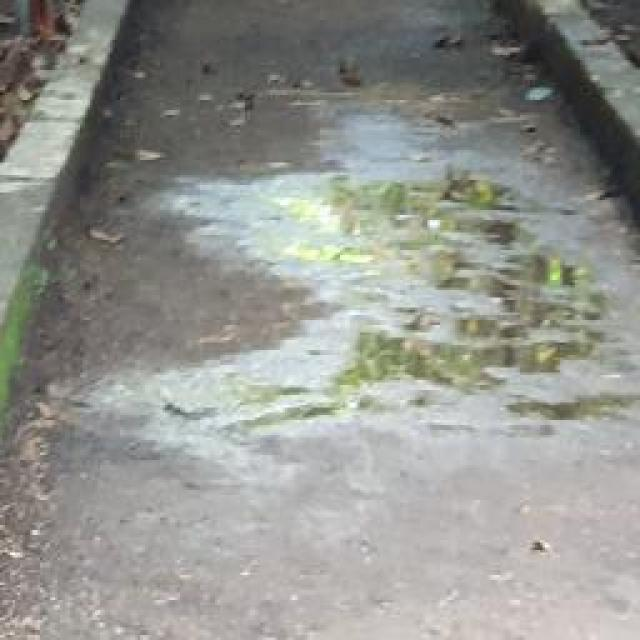waterlogging: (150, 141, 616, 451)
